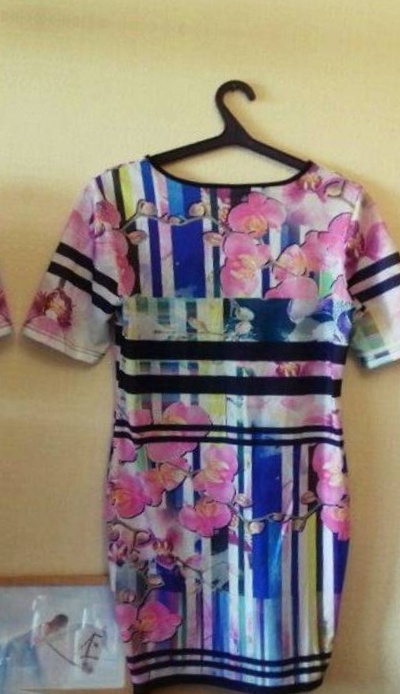Dress: (0, 100, 400, 694), (0, 69, 34, 673)
